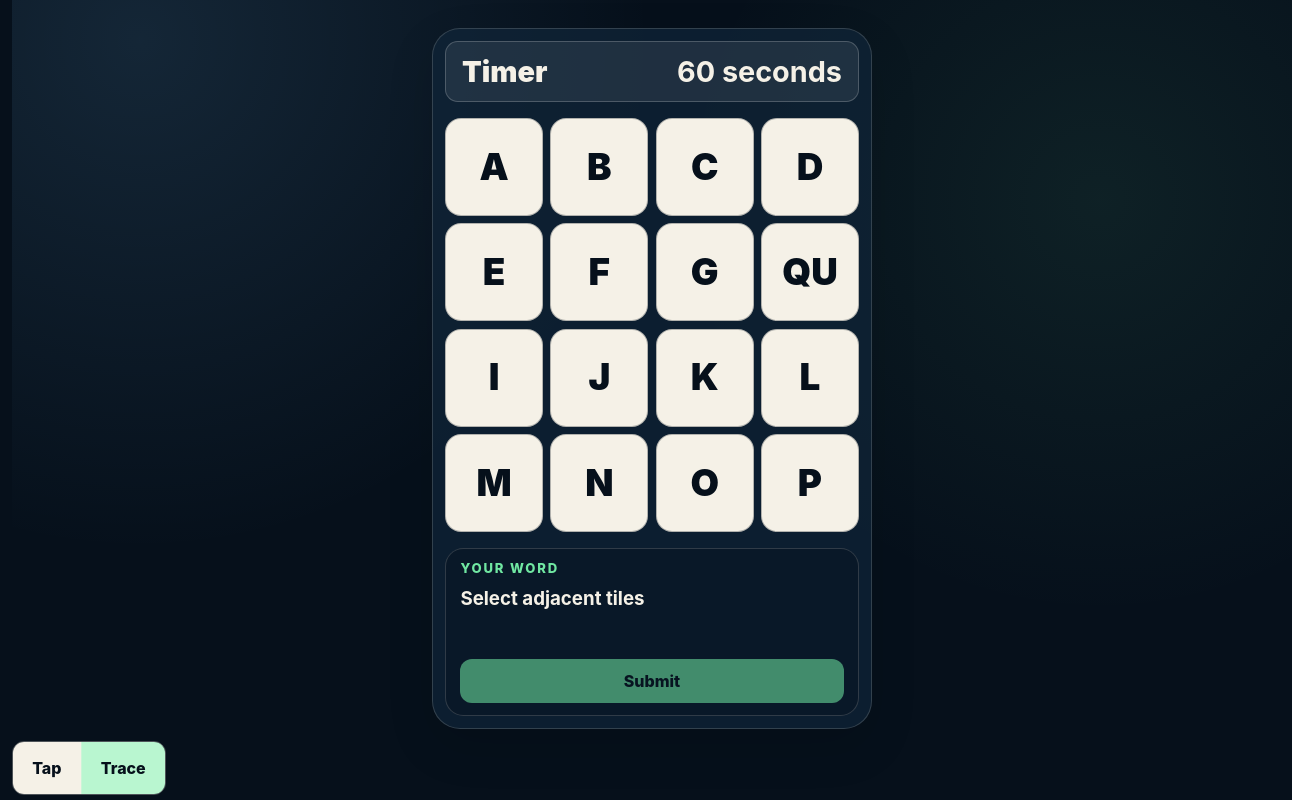
Test: RoomLobby word entry › cancels Trace without submitting and resets an in-progress trace on mode change
Click the button "Trace" at (123, 768), box [81,742,165,794]
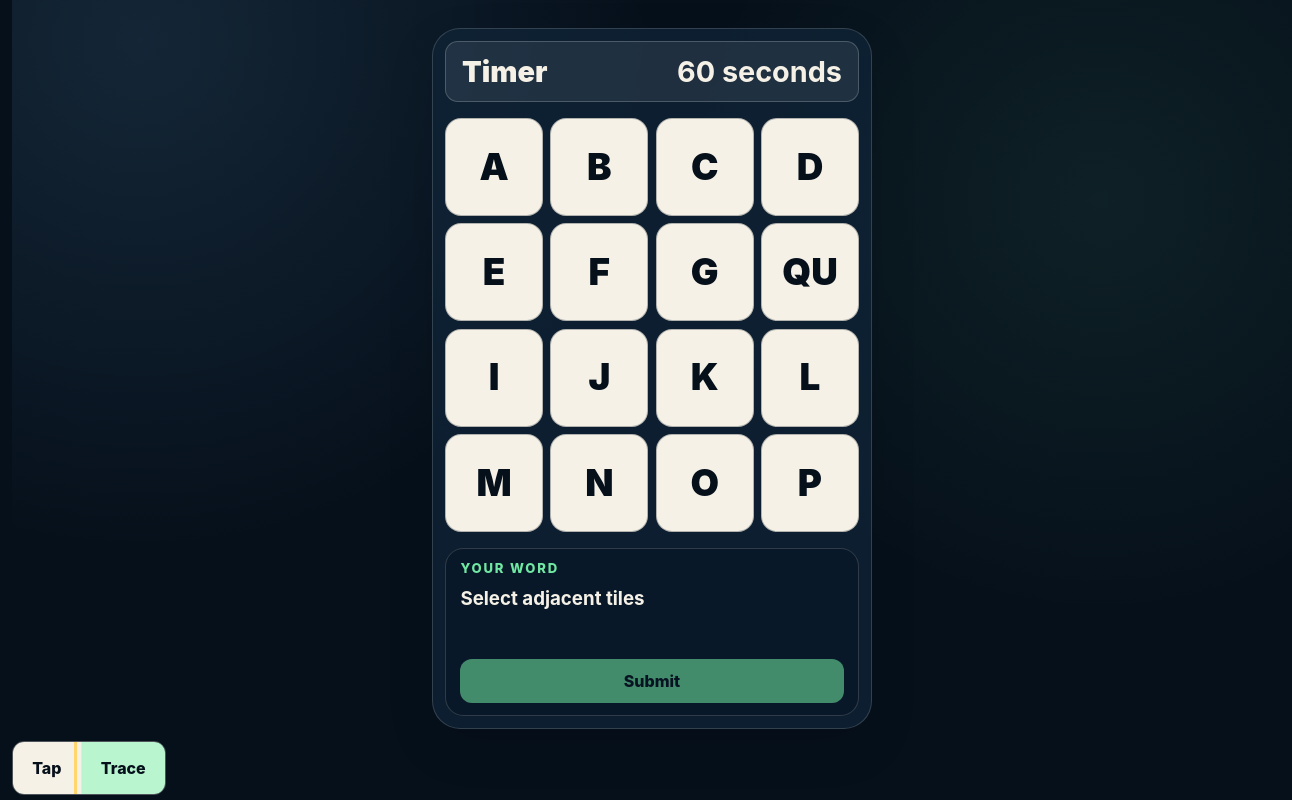
Press the mouse on the button "A" at (494, 167), box [445,118,543,216]
expect the heading "Select adjacent tiles" is shown: met, box [460,587,644,610]
Press the mouse on the button "A" at (494, 167), box [445,118,543,216]
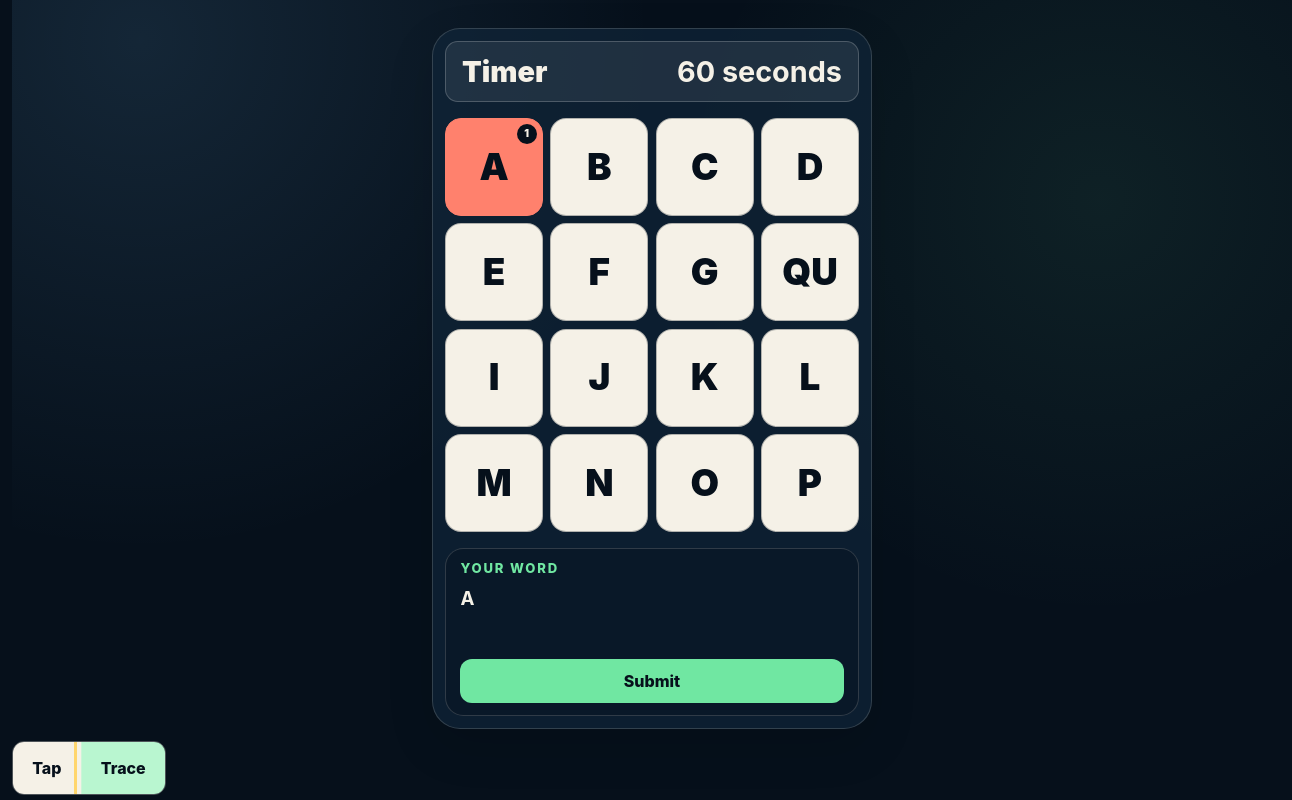
Click the button "Tap" at (47, 768), box [13,742,81,794]
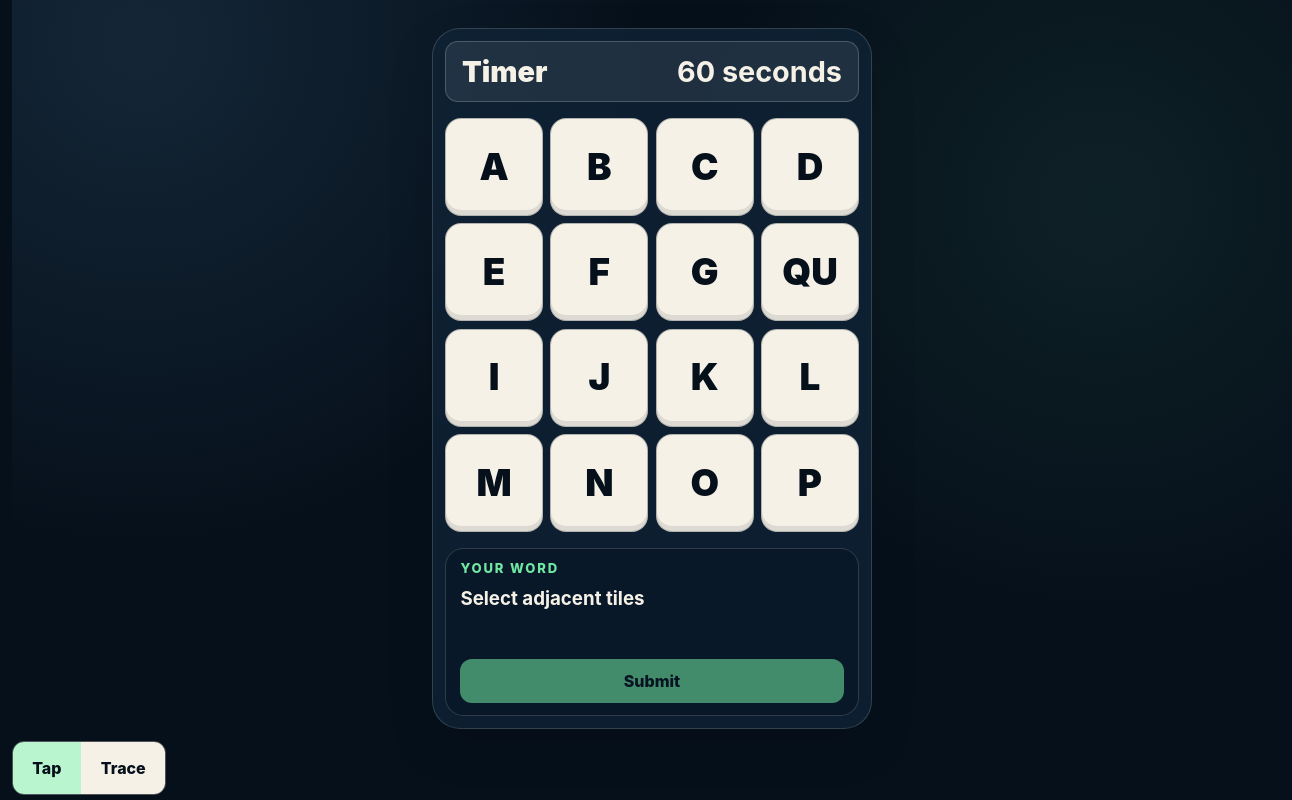
expect the heading "Select adjacent tiles" is shown: met, box [460,587,644,610]
